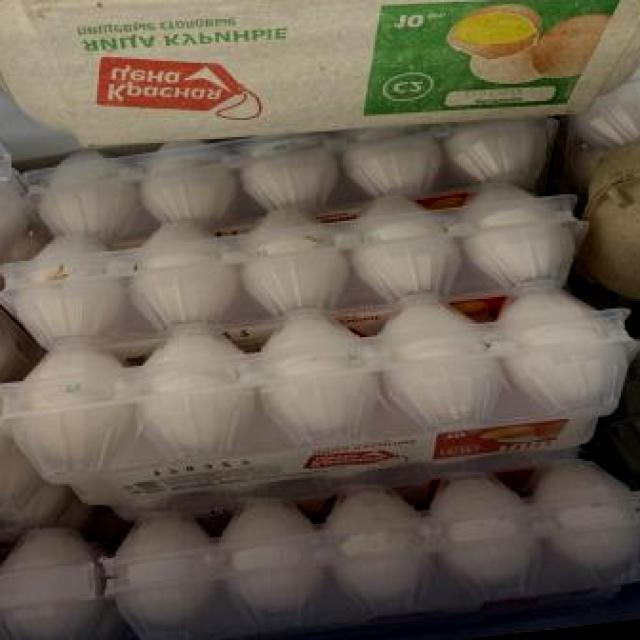Eggs: (0, 278, 640, 516), (0, 0, 640, 181), (556, 133, 640, 320), (604, 372, 640, 476), (623, 457, 640, 596), (625, 299, 640, 383)
